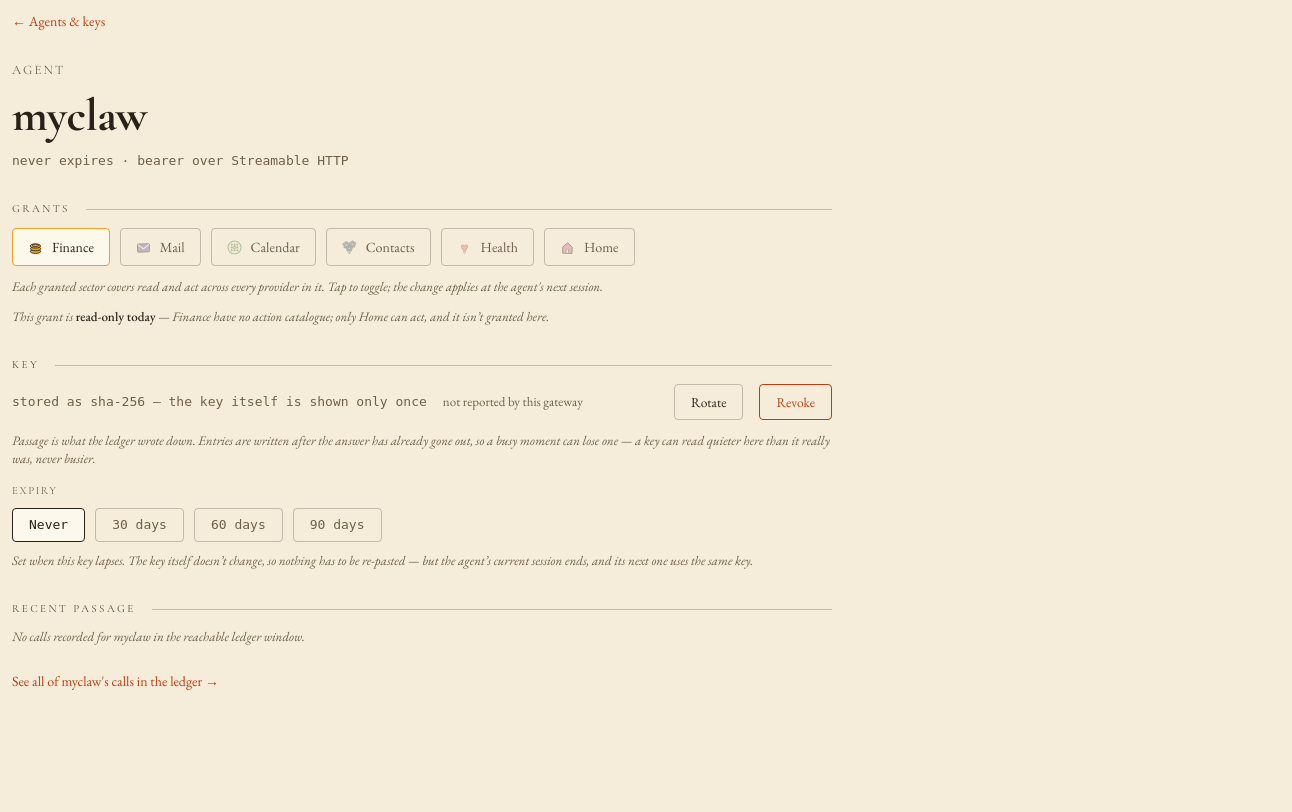
Test: AgentDetailPage › a refused expiry edit reports the gateway's reason and changes nothing on screen
This screenshot has width=1292, height=812.
Click the button "30 days". click: [140, 525]
box: [95, 508, 184, 542]
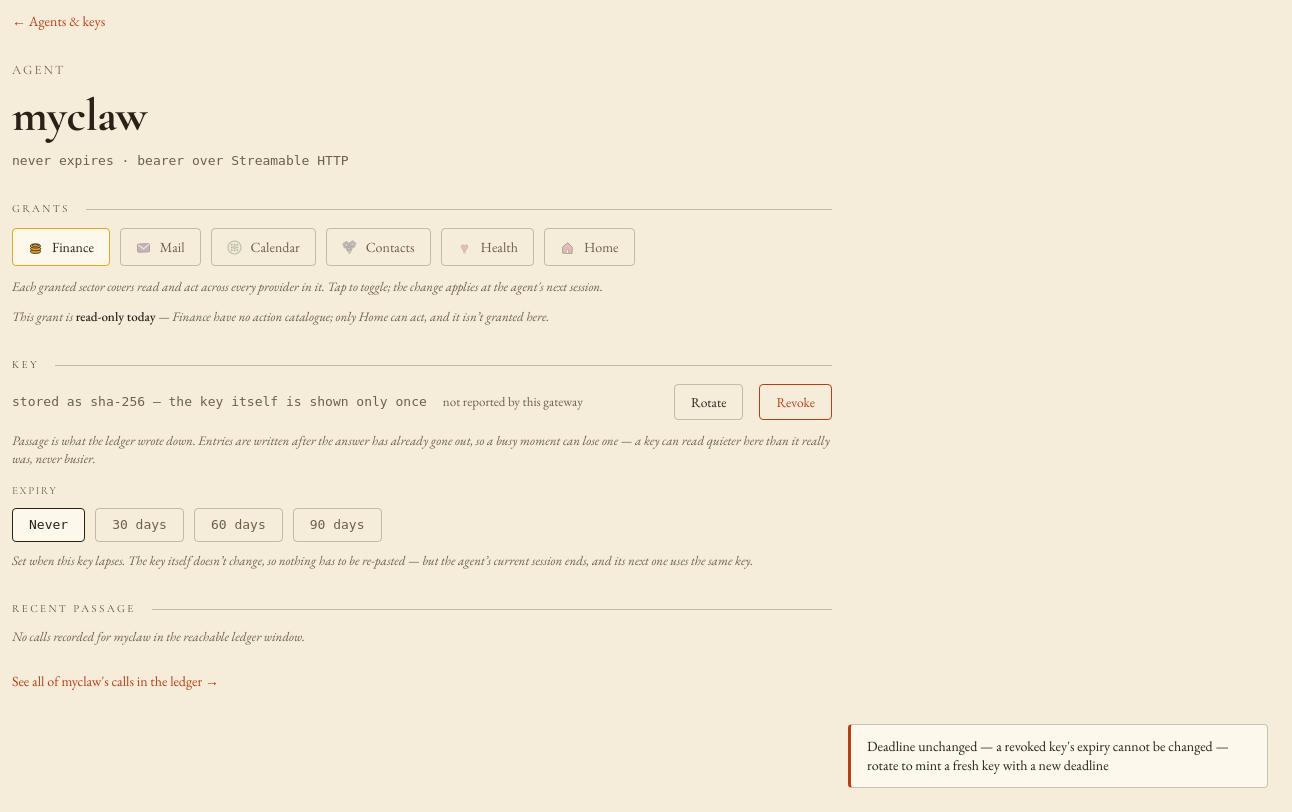
Expected: the text "Deadline unchanged — a revoked key's expiry cannot be changed" is shown, [867, 737, 1229, 774]
